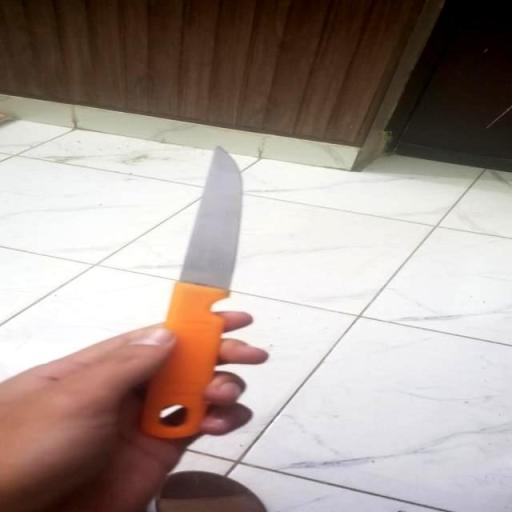knife: (130, 147, 244, 439)
